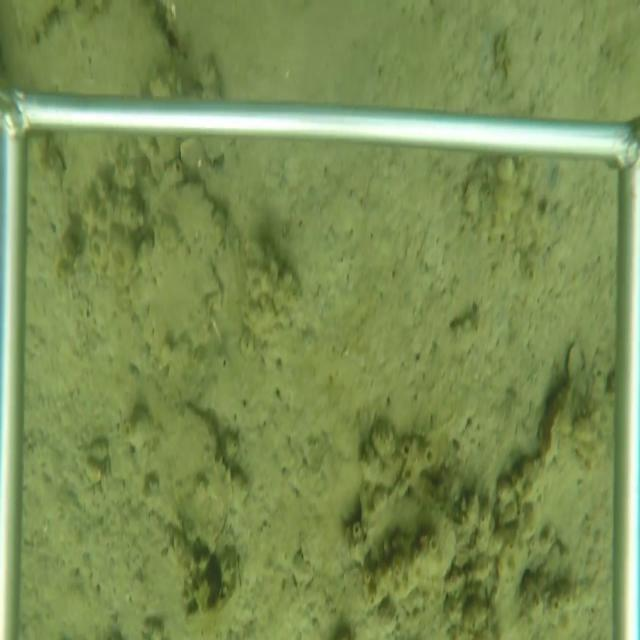Oyster-Indeterminate: (112, 363, 234, 552), (516, 386, 577, 521)
